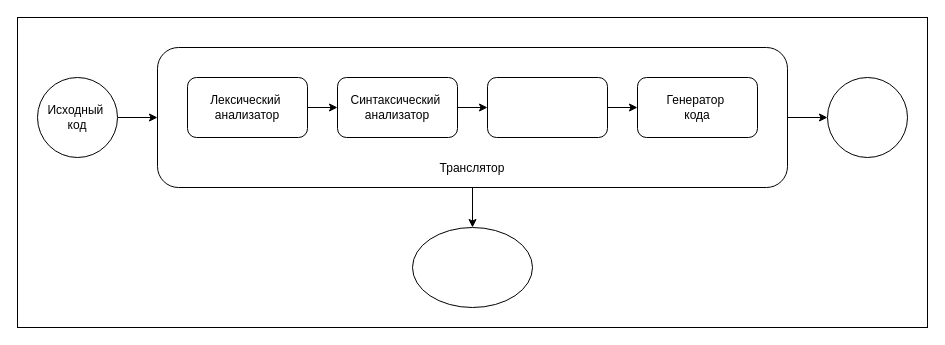
Some shapes in this 945 by 345 pixel diagram are drawn without their labels. Here are the shapes that lost their labels. From the top down, the centre of each, then its label:
the point at 547,107: Семантический анализатор
the point at 867,117: JavaScript код
the point at 472,267: Протокол работы
